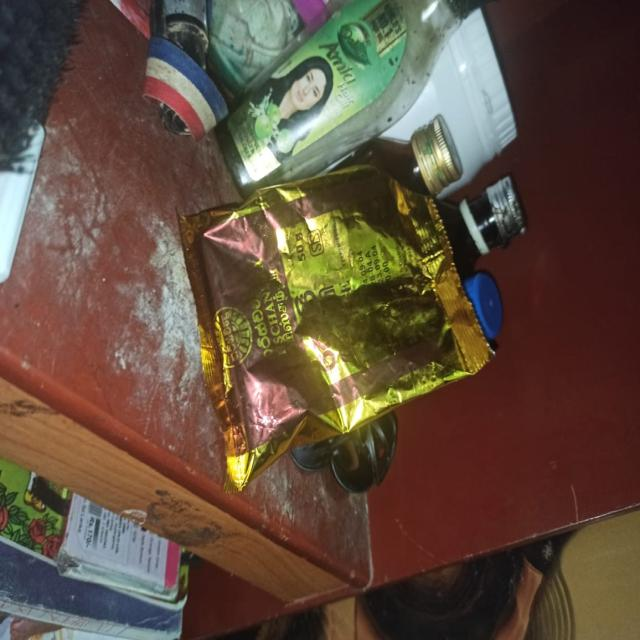Harischandra Coffee: (170, 201, 508, 489)
